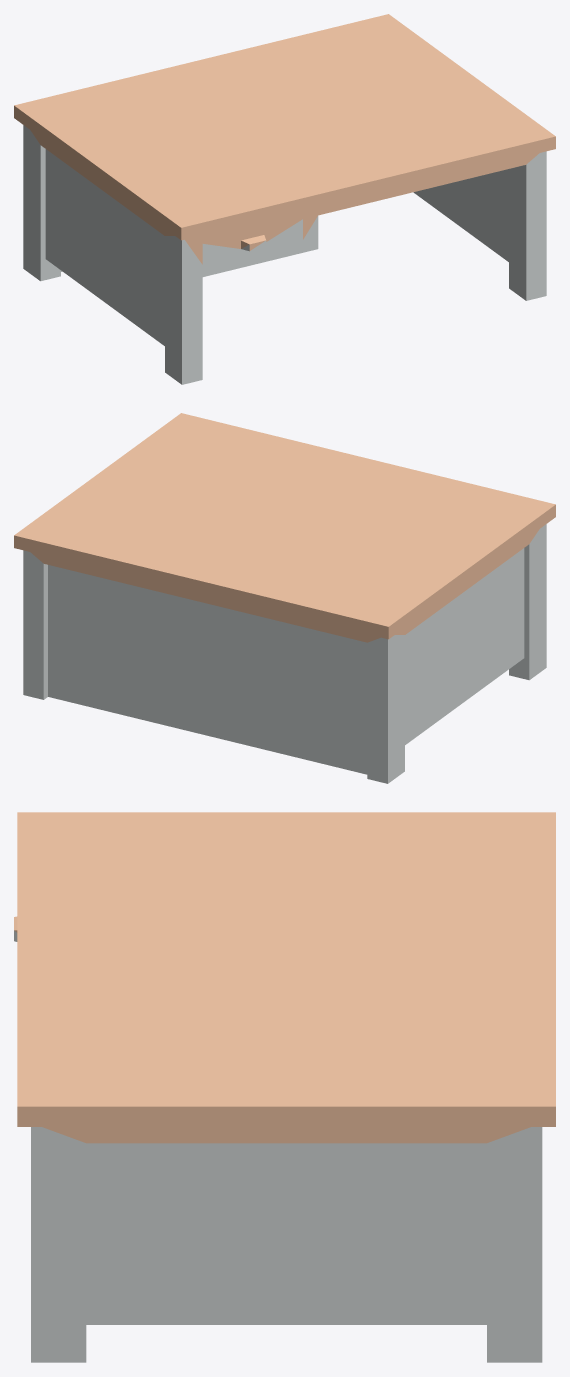
Rendered from workstation-desk.glb.
3 views of the same model, one above another, from view 1: azimuth 30°, elevation 25°; view 2: azimuth 150°, elevation 25°; view 3: azimuth 270°, elevation 25° (orthographic). The views are drawn at different scales.
Visible parts, largest first — view 1: vendor-desktop, vendor-aluminium; view 2: vendor-desktop, vendor-aluminium; view 3: vendor-desktop, vendor-aluminium.
Part boxes in pixels (bbox=[...]): vendor-desktop: bbox=[14, 14, 555, 264]; vendor-aluminium: bbox=[23, 125, 546, 384]; vendor-desktop: bbox=[14, 413, 555, 642]; vendor-aluminium: bbox=[23, 524, 546, 783]; vendor-desktop: bbox=[14, 812, 555, 1143]; vendor-aluminium: bbox=[14, 930, 542, 1362].
Bounding box in the file's own units: 3.06 × 1.26 × 2.38.
1 material, 1 textured.
